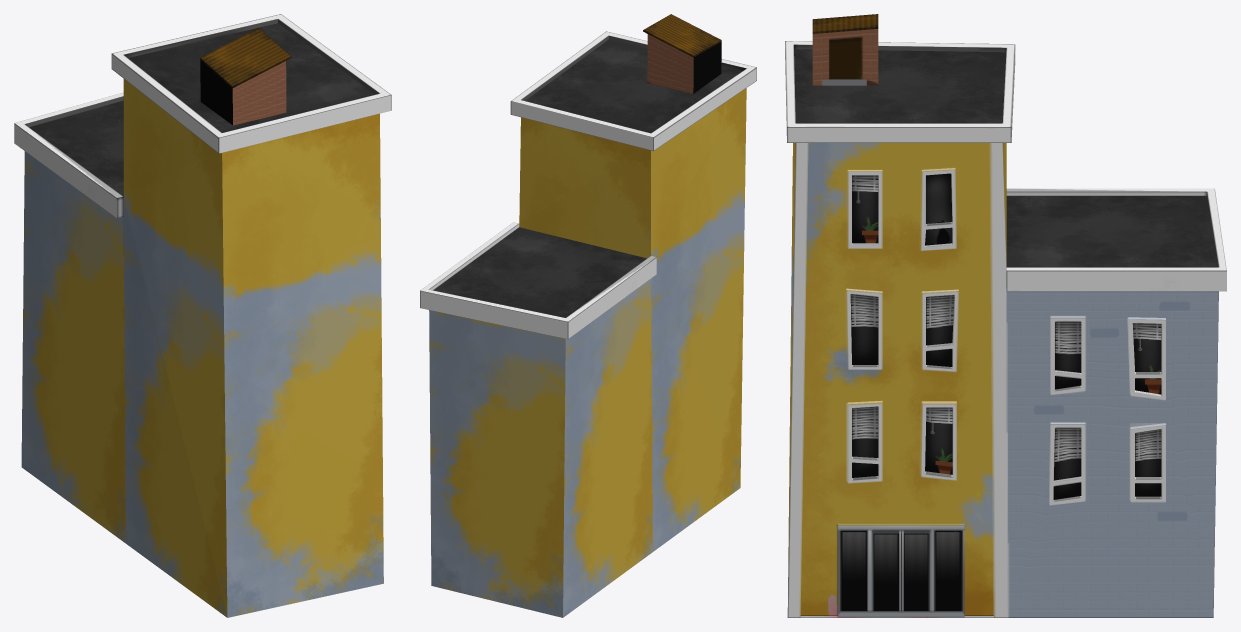
File: House_03.FBX
3 views of the same model, side by side, from view 1: azimuth 30°, elevation 25°; view 2: azimuth 150°, elevation 25°; view 3: azimuth 270°, elevation 25° (orthographic). The views are drawn at different scales.
Parts seen in each view (by area): view 1: Box115; view 2: Box115; view 3: Box115.
Part boxes in pixels (left/top/right/bottom): Box115: left=14, top=14, right=391, bottom=617; Box115: left=420, top=14, right=756, bottom=617; Box115: left=785, top=14, right=1226, bottom=617.
Size of the model in its own units: 96.04 by 287 by 208.
